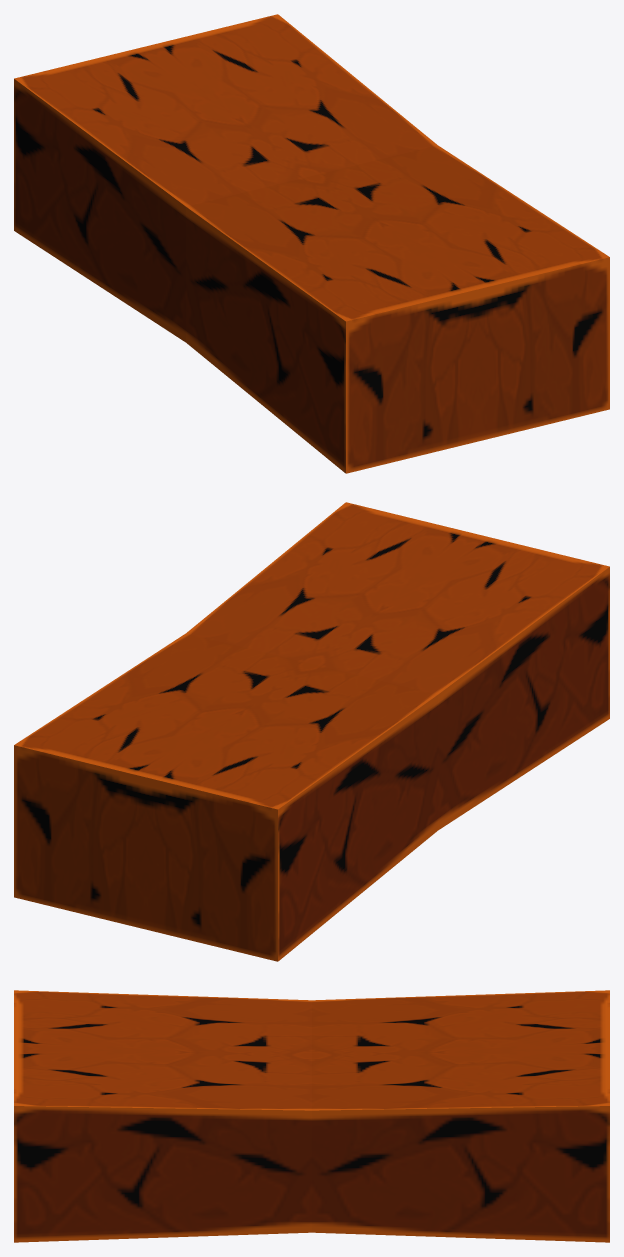
The picture shows the model from 3 angles, top to bottom: view 1: azimuth 30°, elevation 25°; view 2: azimuth 150°, elevation 25°; view 3: azimuth 270°, elevation 25°; orthographic projection. The views are drawn at different scales.
Visible parts, largest first — view 1: Box004; view 2: Box004; view 3: Box004.
Part boxes in pixels (bbox=[...]): Box004: bbox=[14, 14, 609, 473]; Box004: bbox=[14, 502, 609, 961]; Box004: bbox=[14, 990, 609, 1242].
Bounding box in the file's own units: 42.49 × 92.53 × 23.41.
